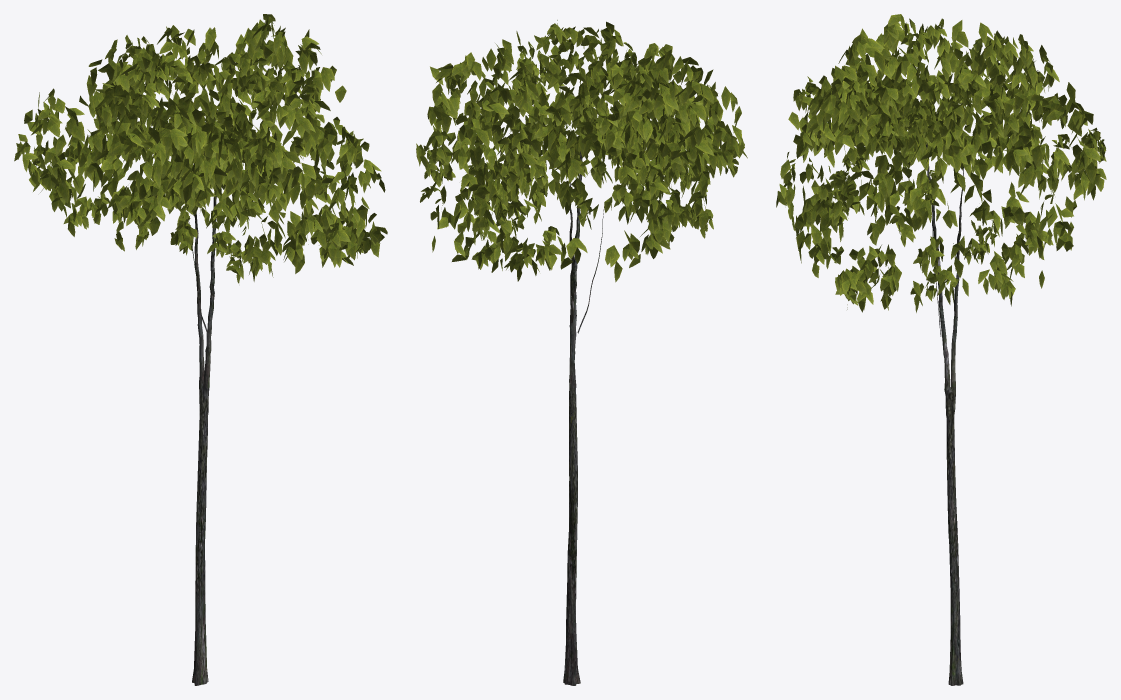
File: tree_18.glb
3 renders of one model, left to right at view 1: azimuth 30°, elevation 25°; view 2: azimuth 150°, elevation 25°; view 3: azimuth 270°, elevation 25°, orthographic.
Parts seen in each view (by area): view 1: MainBuilding; view 2: MainBuilding; view 3: MainBuilding.
Boxes of the visible parts, x1,y1,x2,y2 form: MainBuilding: (14,14,387,685); MainBuilding: (416,20,747,685); MainBuilding: (776,14,1106,685).
Size of the model in its own units: 0.4805 by 1.02 by 0.4766.
1 material, 1 textured.
